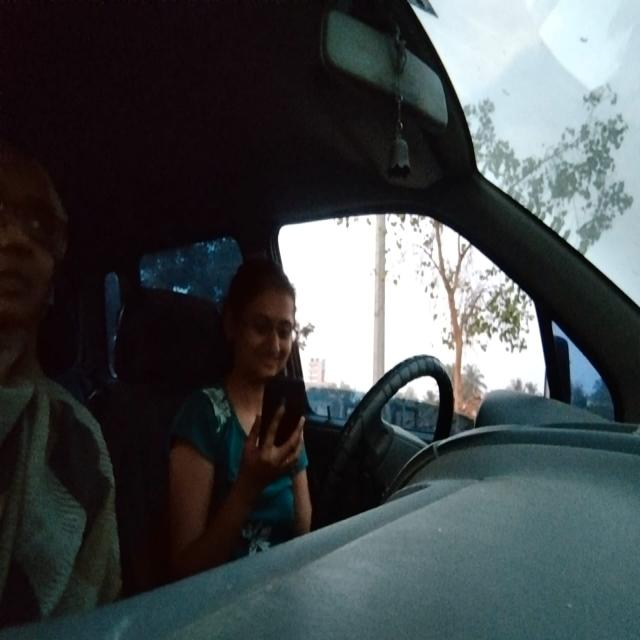mobile: (248, 370, 316, 471)
person: (0, 147, 76, 351), (219, 264, 305, 384)
